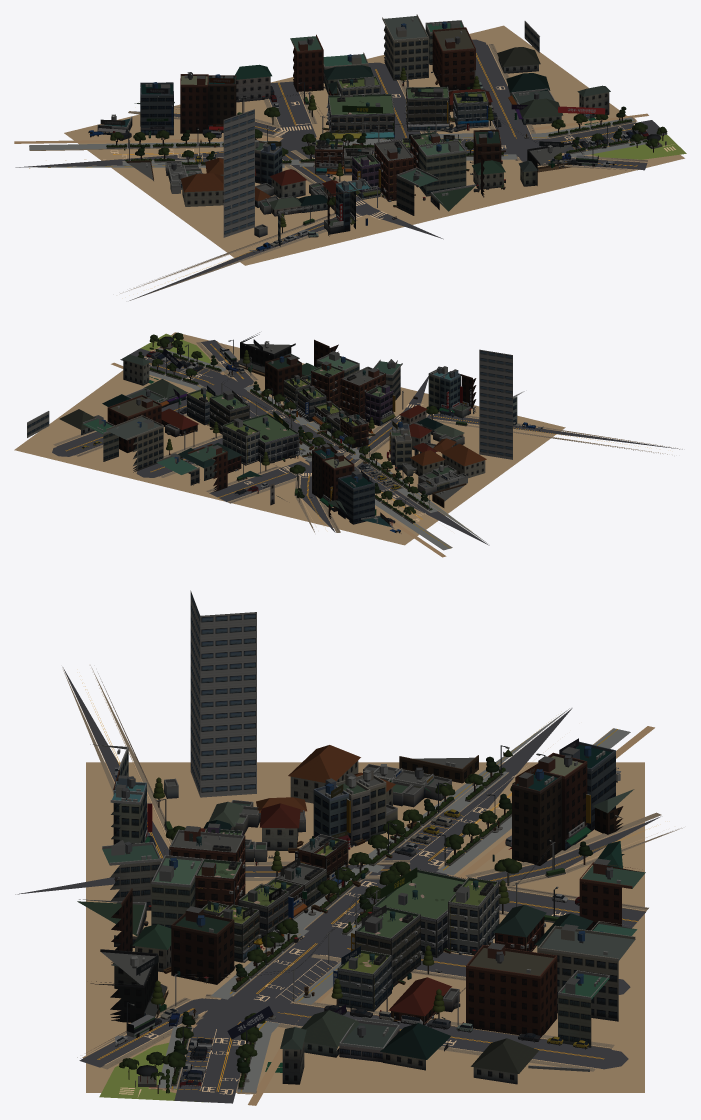
The model's file is zone2_full.glb.
The picture shows the model from 3 angles, top to bottom: view 1: azimuth 30°, elevation 25°; view 2: azimuth 150°, elevation 25°; view 3: azimuth 270°, elevation 25°; orthographic projection. The views are drawn at different scales.
Visible parts, largest first — view 1: zchunk91, zchunk90, zchunk84, zchunk89, zchunk86, zchunk85, zchunk87, zchunk92, zchunk0, zchunk36, zchunk88, zchunk58 (+9 smaller); view 2: zchunk91, zchunk90, zchunk84, zchunk85, zchunk89, zchunk86, zchunk92, zchunk87, zchunk0, zchunk51, zchunk34, zchunk43 (+10 smaller); view 3: zchunk91, zchunk90, zchunk84, zchunk89, zchunk92, zchunk86, zchunk85, zchunk87, zchunk0, zchunk51, zchunk34, zchunk79 (+12 smaller).
Part boxes in pixels (x1=…): zchunk91: x1=14, y1=25, x2=686, y2=300; zchunk90: x1=97, y1=14, x2=584, y2=237; zchunk84: x1=180, y1=32, x2=537, y2=226; zchunk89: x1=134, y1=47, x2=610, y2=209; zchunk86: x1=140, y1=23, x2=539, y2=215; zchunk85: x1=127, y1=26, x2=428, y2=246; zchunk87: x1=182, y1=58, x2=609, y2=216; zchunk92: x1=223, y1=109, x2=254, y2=237; zchunk0: x1=98, y1=70, x2=605, y2=207; zchunk36: x1=354, y1=143, x2=413, y2=205; zchunk88: x1=97, y1=94, x2=523, y2=236; zchunk58: x1=410, y1=90, x2=485, y2=132; zchunk91: x1=14, y1=332, x2=682, y2=557; zchunk90: x1=27, y1=332, x2=524, y2=526; zchunk84: x1=107, y1=341, x2=476, y2=518; zchunk85: x1=133, y1=375, x2=517, y2=485; zchunk89: x1=59, y1=353, x2=486, y2=514; zchunk86: x1=27, y1=361, x2=458, y2=524; zchunk92: x1=479, y1=349, x2=512, y2=459; zchunk87: x1=81, y1=359, x2=485, y2=505; zchunk0: x1=162, y1=339, x2=403, y2=524; zchunk51: x1=272, y1=371, x2=318, y2=421; zchunk34: x1=324, y1=413, x2=370, y2=454; zchunk43: x1=303, y1=373, x2=354, y2=426; zchunk91: x1=15, y1=665, x2=682, y2=1105; zchunk90: x1=77, y1=741, x2=645, y2=1071; zchunk84: x1=110, y1=758, x2=623, y2=1037; zchunk89: x1=111, y1=745, x2=634, y2=1073; zchunk92: x1=190, y1=590, x2=256, y2=797; zchunk86: x1=110, y1=753, x2=615, y2=1062; zchunk85: x1=111, y1=750, x2=618, y2=1021; zchunk87: x1=114, y1=760, x2=538, y2=1084; zchunk0: x1=136, y1=738, x2=578, y2=1039; zchunk51: x1=220, y1=866, x2=297, y2=964; zchunk34: x1=295, y1=832, x2=369, y2=907; zchunk79: x1=147, y1=1026, x2=206, y2=1085.
Bounding box in the file's own units: 234 × 45.01 × 151.
13 materials, 10 textured.
